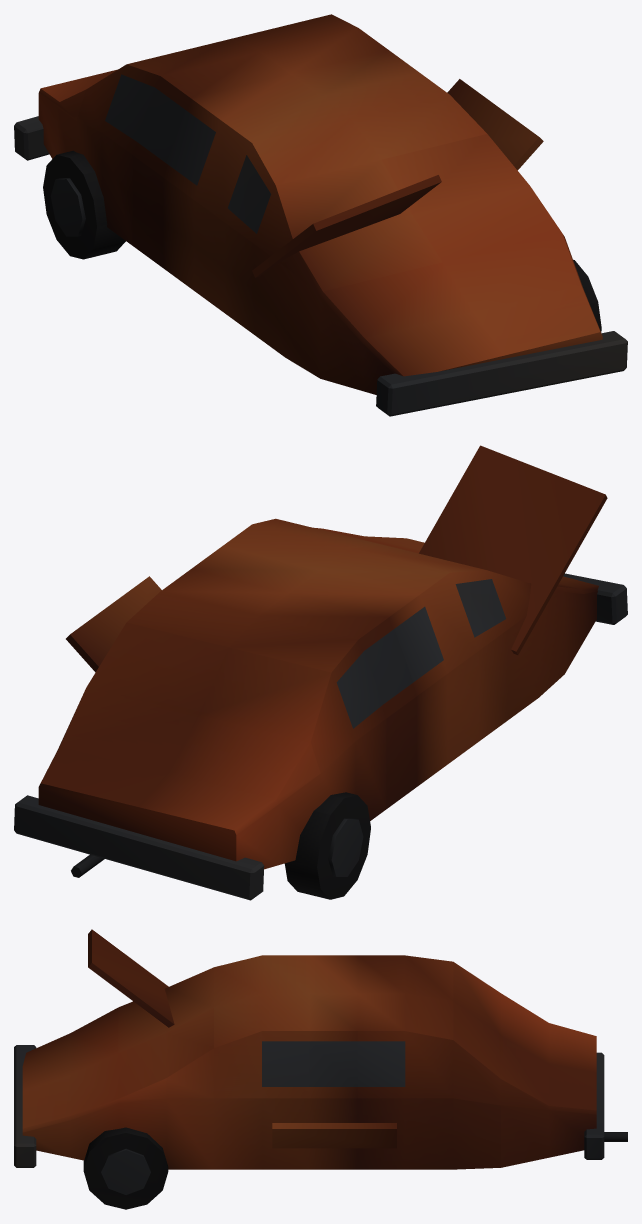
File: wreck_sedan.glb
3 views of the same model, one above another, from view 1: azimuth 30°, elevation 25°; view 2: azimuth 150°, elevation 25°; view 3: azimuth 270°, elevation 25° (orthographic). The views are drawn at different scales.
Parts seen in each view (by area): view 1: rust, metal_dark, rubber; view 2: rust, metal_dark, rubber; view 3: rust, metal_dark, rubber.
Part boxes in pixels (box(x1,y1,x2,y2)): rust: box(38, 14, 602, 394); metal_dark: box(14, 74, 627, 416); rubber: box(43, 150, 601, 332); rust: box(38, 445, 607, 869); metal_dark: box(14, 573, 627, 900); rubber: box(284, 792, 370, 899); rust: box(22, 929, 596, 1169); metal_dark: box(14, 1041, 627, 1194); rubber: box(83, 1127, 168, 1209).
Size of what is drawn, in the model's own units: 2.51 by 1.65 by 4.92.
